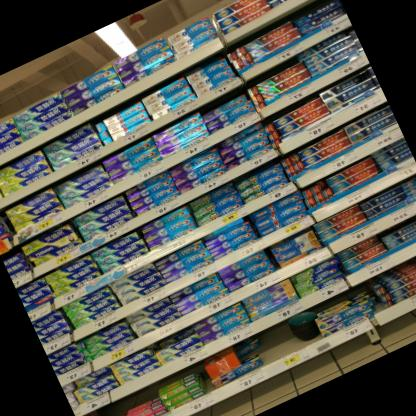empty_space: (259, 324, 300, 365)
